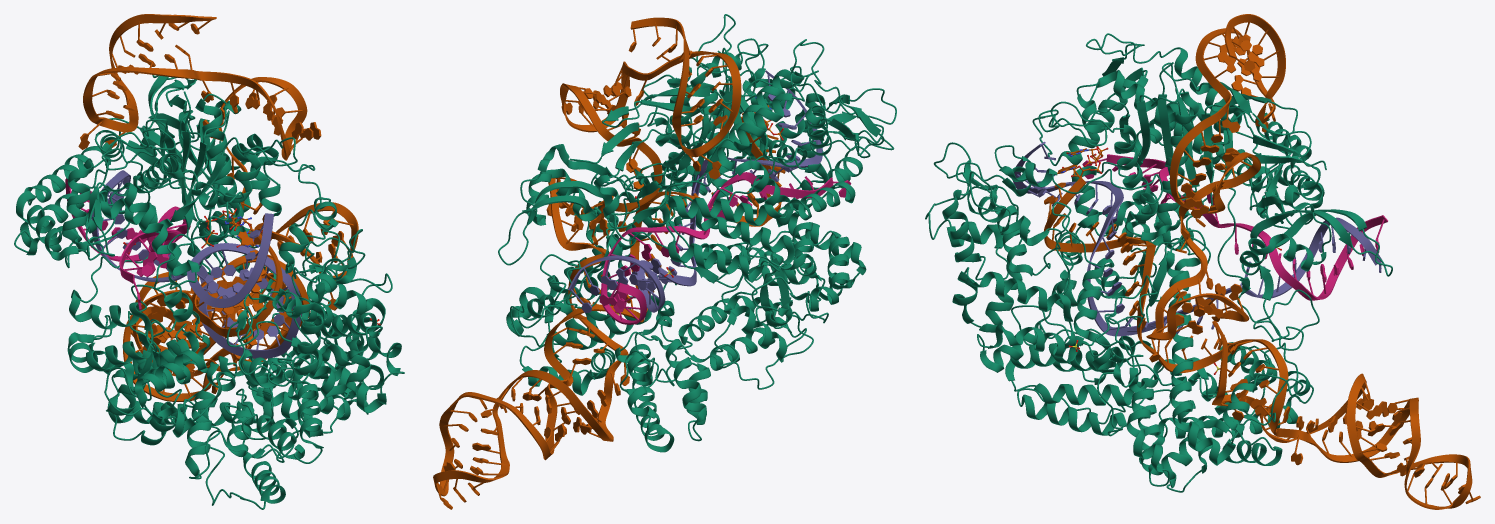
File: cas9_best.glb
3 renders of one model, left to right at view 1: azimuth 30°, elevation 25°; view 2: azimuth 150°, elevation 25°; view 3: azimuth 270°, elevation 25°, orthographic. The views are drawn at different scales.
Visible parts, largest first — view 1: Mesh_0, Mesh_1, Mesh_4, Mesh_2, Mesh_5, Mesh_3, Mesh_6; view 2: Mesh_0, Mesh_1, Mesh_4, Mesh_2, Mesh_3, Mesh_5, Mesh_6; view 3: Mesh_0, Mesh_1, Mesh_4, Mesh_2, Mesh_3, Mesh_5, Mesh_6.
Part boxes in pixels (bbox=[...]): Mesh_0: bbox=[14, 75, 404, 509]; Mesh_1: bbox=[83, 14, 358, 401]; Mesh_4: bbox=[78, 20, 353, 396]; Mesh_2: bbox=[91, 170, 301, 358]; Mesh_5: bbox=[103, 179, 292, 349]; Mesh_3: bbox=[65, 178, 190, 283]; Mesh_6: bbox=[80, 191, 186, 310]; Mesh_0: bbox=[498, 14, 896, 452]; Mesh_1: bbox=[433, 17, 781, 496]; Mesh_4: bbox=[436, 22, 785, 509]; Mesh_2: bbox=[568, 70, 822, 312]; Mesh_3: bbox=[601, 172, 833, 324]; Mesh_5: bbox=[571, 75, 815, 313]; Mesh_6: bbox=[599, 176, 851, 320]; Mesh_0: bbox=[925, 33, 1392, 492]; Mesh_1: bbox=[1044, 14, 1472, 509]; Mesh_4: bbox=[1044, 22, 1480, 504]; Mesh_2: bbox=[1013, 141, 1382, 336]; Mesh_3: bbox=[1106, 154, 1387, 300]; Mesh_5: bbox=[1016, 145, 1381, 333]; Mesh_6: bbox=[1082, 158, 1384, 294].
Size of the model in its own units: 86.61 by 109 by 128.
